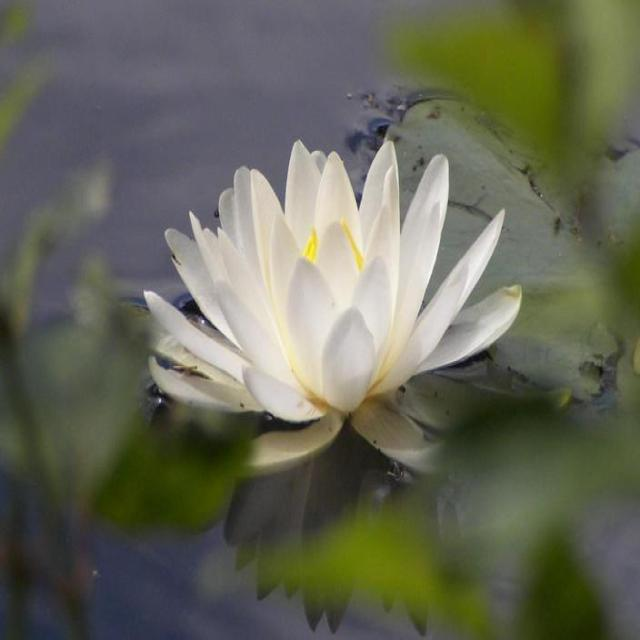water-lily: (101, 74, 540, 476)
